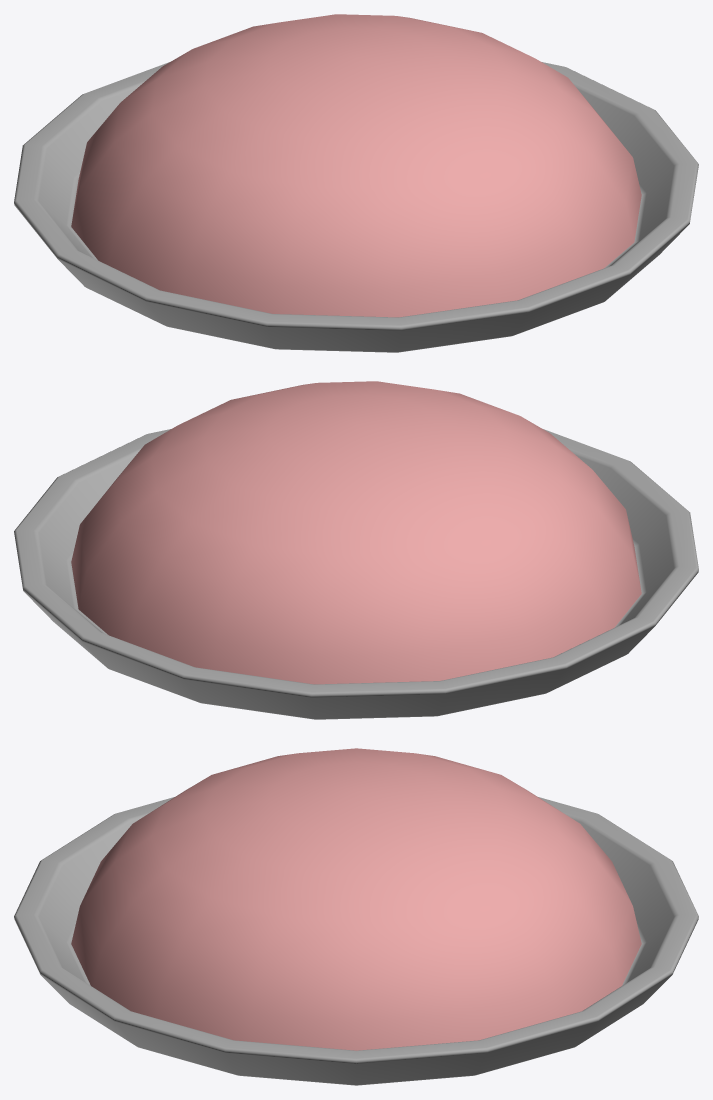
The model's file is friedRice.fbx.
The picture shows the model from 3 angles, top to bottom: view 1: azimuth 30°, elevation 25°; view 2: azimuth 150°, elevation 25°; view 3: azimuth 270°, elevation 25°; orthographic projection.
Parts seen in each view (by area): view 1: friedRice_Combined; view 2: friedRice_Combined; view 3: friedRice_Combined.
Part boxes in pixels (box(x1,y1,x2,y2)): friedRice_Combined: box(14, 14, 698, 352); friedRice_Combined: box(14, 381, 698, 719); friedRice_Combined: box(14, 748, 698, 1085).
Bounding box in the file's own units: 54.42 × 14.38 × 54.42.
